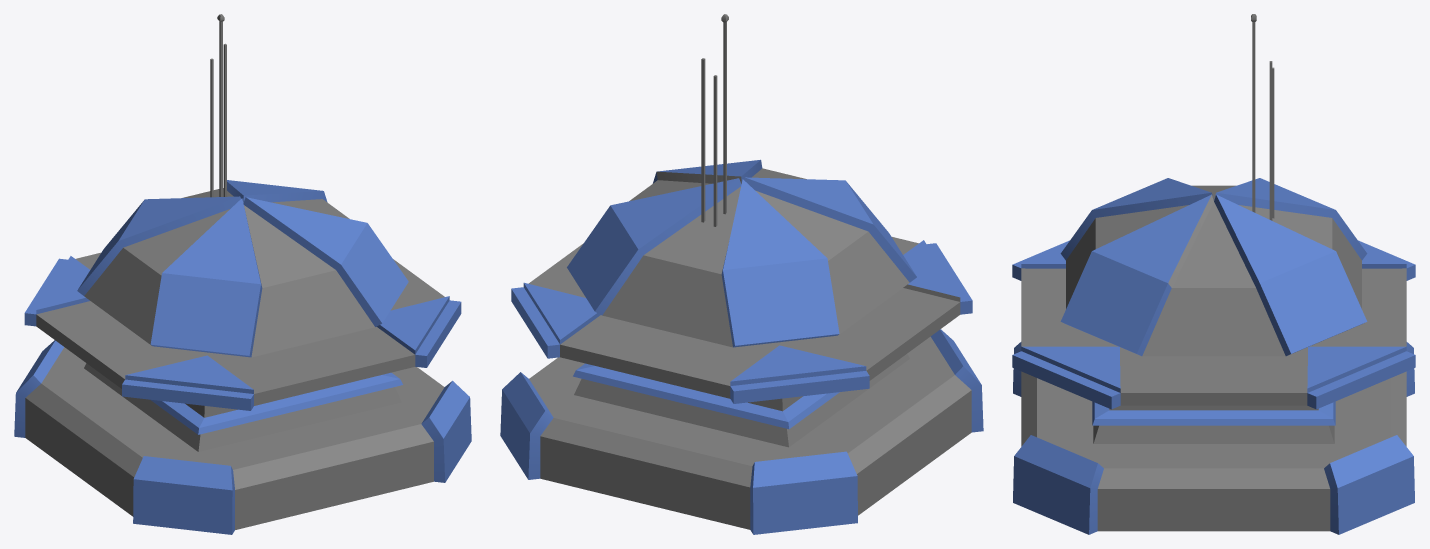
The model's file is mainBase.fbx.
3 views of the same model, side by side, from view 1: azimuth 30°, elevation 25°; view 2: azimuth 150°, elevation 25°; view 3: azimuth 270°, elevation 25° (orthographic). The views are drawn at different scales.
Visible parts, largest first — view 1: Building, Antenna2, Antenna3, Antenna1; view 2: Building, Antenna2, Antenna3, Antenna1; view 3: Building, Antenna2, Antenna3.
Boxes of the visible parts, <box> form: Building: <box>14,180,471,534</box>; Antenna2: <box>217,14,224,196</box>; Antenna3: <box>223,43,226,196</box>; Antenna1: <box>210,58,213,197</box>; Building: <box>500,159,983,534</box>; Antenna2: <box>721,14,728,214</box>; Antenna3: <box>701,58,705,222</box>; Antenna1: <box>713,75,717,226</box>; Building: <box>1012,178,1415,534</box>; Antenna2: <box>1251,14,1256,212</box>; Antenna3: <box>1269,61,1272,220</box>.
Bounding box in the file's own units: 4.2 × 4.86 × 4.11.
